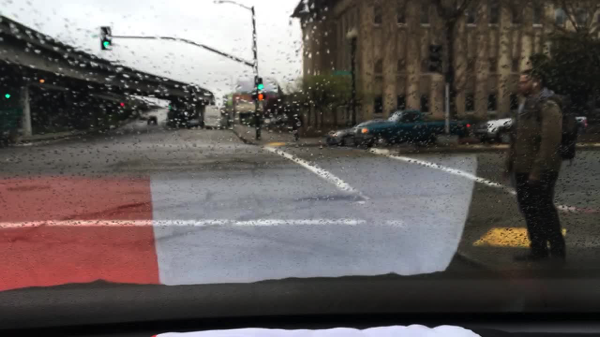car: (477, 115, 589, 144), (327, 119, 391, 147), (266, 116, 295, 128), (187, 117, 199, 129), (146, 115, 158, 125), (140, 112, 146, 122)
person: (502, 69, 578, 271)
traffic light: (430, 44, 441, 74), (101, 25, 110, 51), (37, 76, 46, 86), (255, 93, 266, 101), (5, 88, 11, 102), (257, 78, 264, 89), (119, 101, 125, 110), (167, 103, 172, 111)
traffic sign: (333, 71, 353, 76)
truck: (356, 109, 471, 145), (206, 104, 228, 129)
